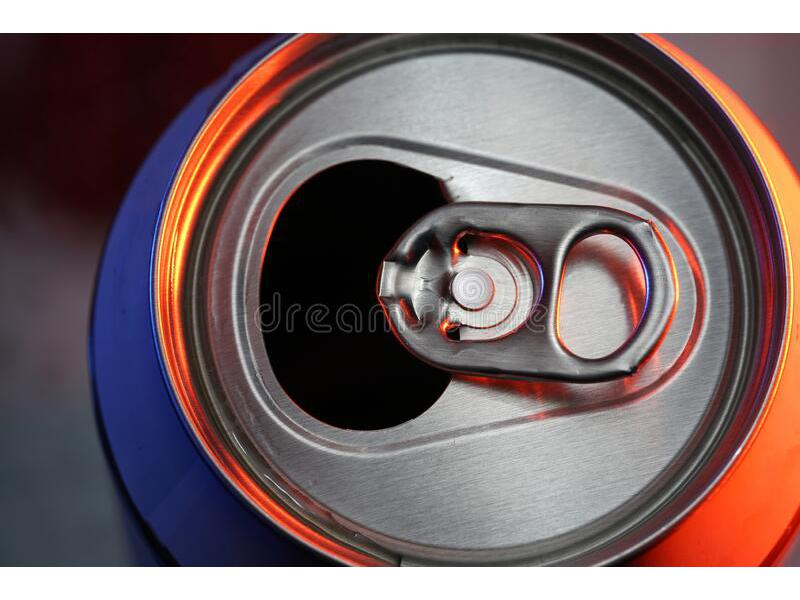can: (86, 31, 799, 565)
